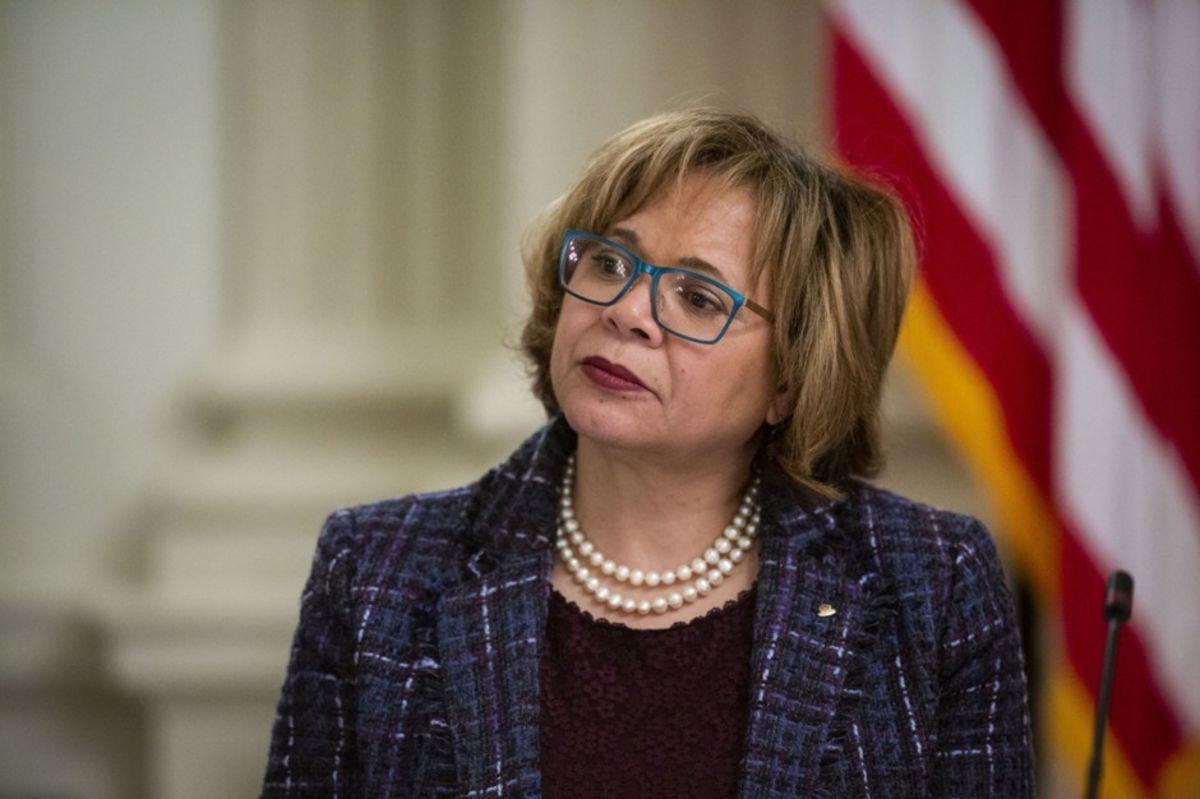Sober: (564, 192, 768, 435)
